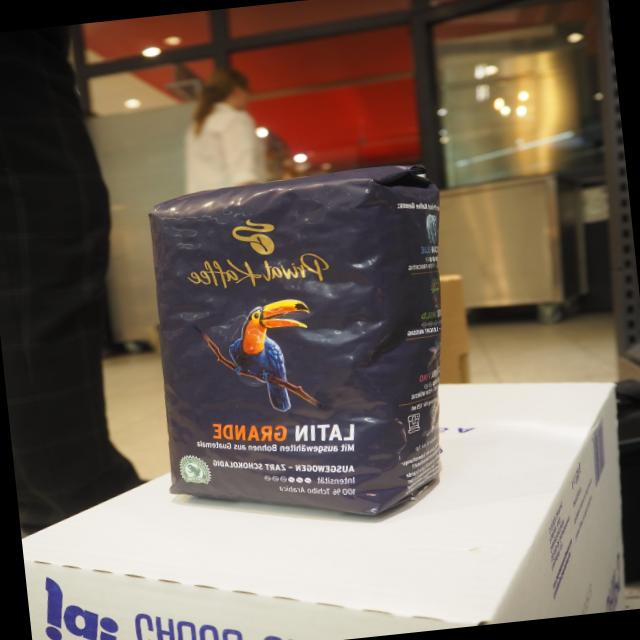LG Bohne: (141, 154, 453, 535)
